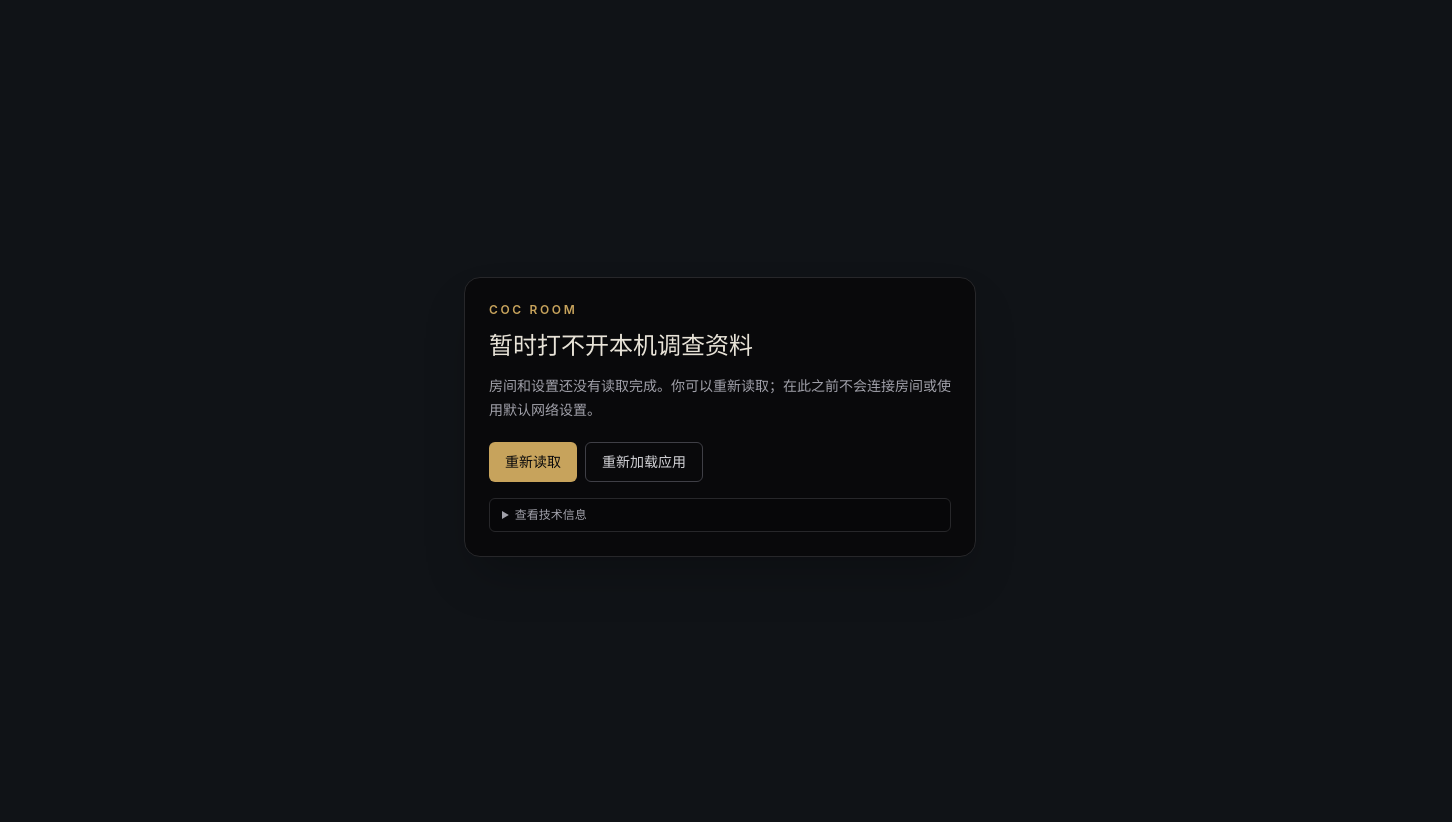
Scenario: App startup hydration › shows a readable failure and retries repository hydration
This screenshot has width=1452, height=822.
expect the message shows "暂时打不开本机调查资料": met, box [489, 333, 753, 359]
expect the button "我是 KP，开一个新团" is not shown: met
Click the button "重新读取" at point(533, 462), box [489, 442, 577, 482]
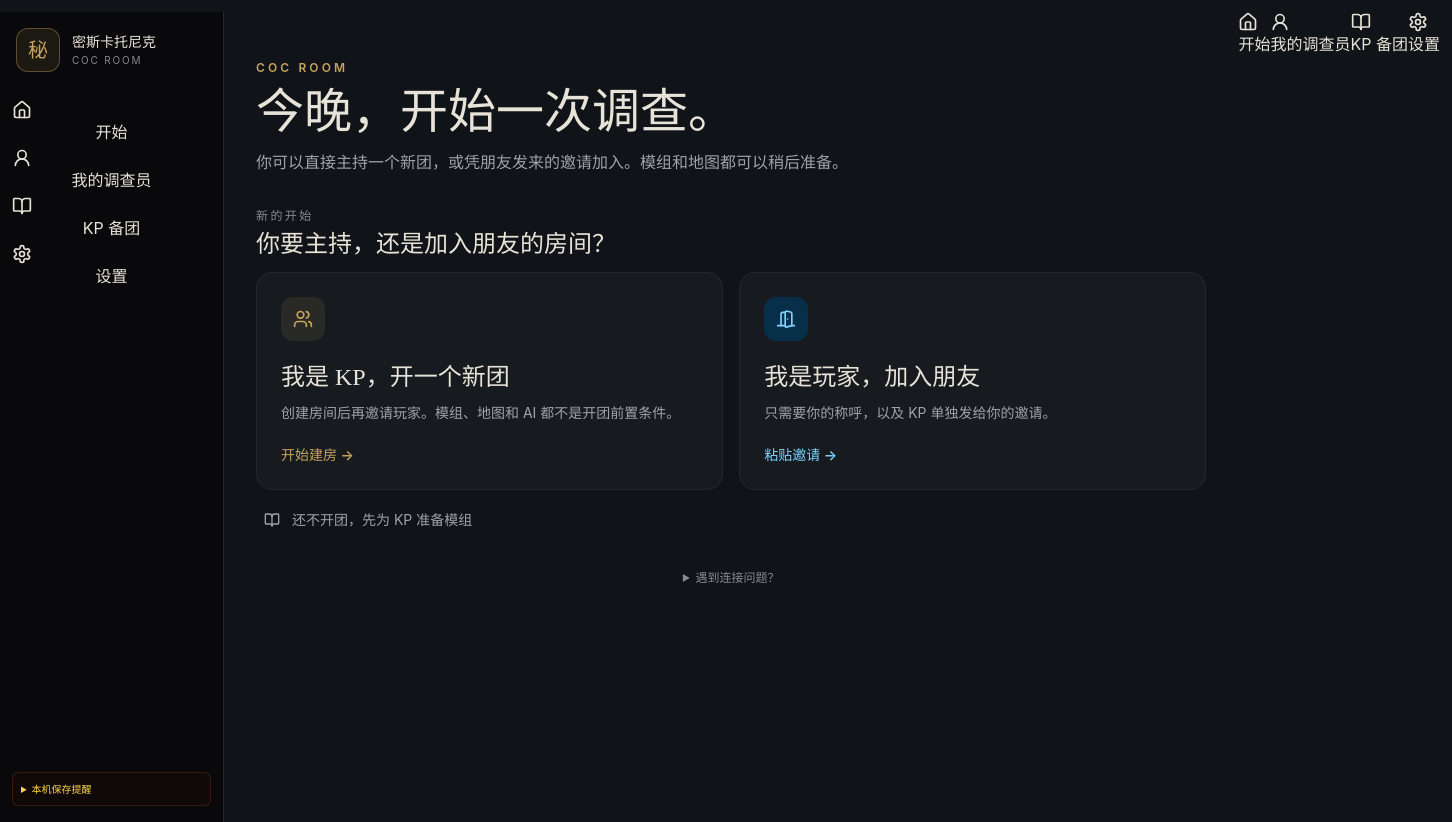
expect the heading "今晚，开始一次调查。" is shown: met, box [256, 85, 736, 138]
